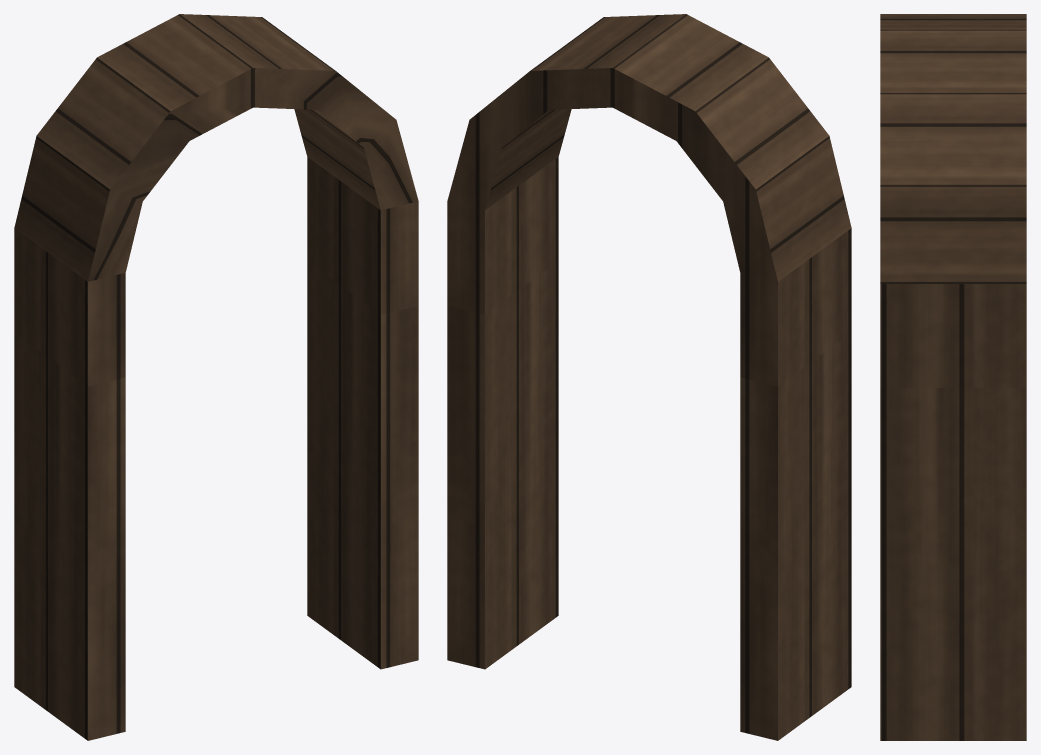
File: DoorFrame_Round_WoodDark_LOD1.gltf
3 renders of one model, left to right at view 1: azimuth 30°, elevation 25°; view 2: azimuth 150°, elevation 25°; view 3: azimuth 270°, elevation 25°, orthographic.
Visible parts, largest first — view 1: DoorFrame_Round_WoodDark_LOD1; view 2: DoorFrame_Round_WoodDark_LOD1; view 3: DoorFrame_Round_WoodDark_LOD1.
Boxes of the visible parts, x1,y1,x2,y2 form: DoorFrame_Round_WoodDark_LOD1: (14,14,418,740); DoorFrame_Round_WoodDark_LOD1: (447,14,851,740); DoorFrame_Round_WoodDark_LOD1: (880,14,1026,740).
Size of the model in its own units: 1.4 by 2.56 by 0.54.
1 material, 1 textured.
